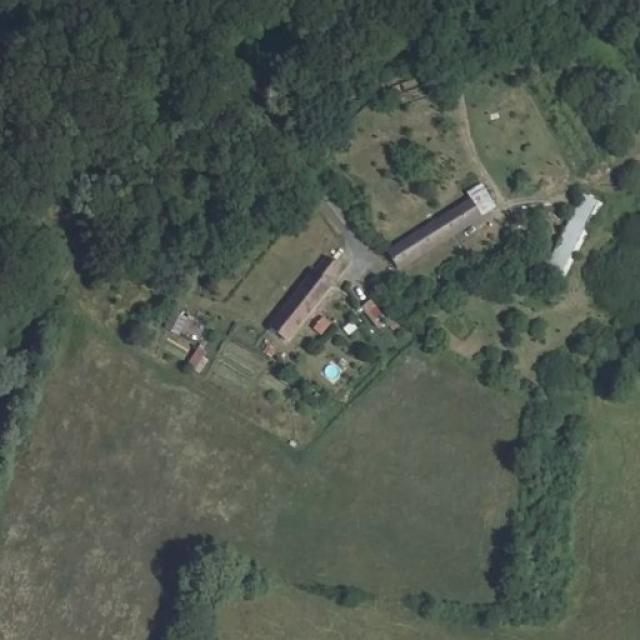ferme: (390, 166, 502, 250), (552, 175, 613, 264)
maison: (264, 238, 340, 354), (363, 301, 389, 329), (186, 345, 206, 370)
piscine: (321, 355, 343, 390)
